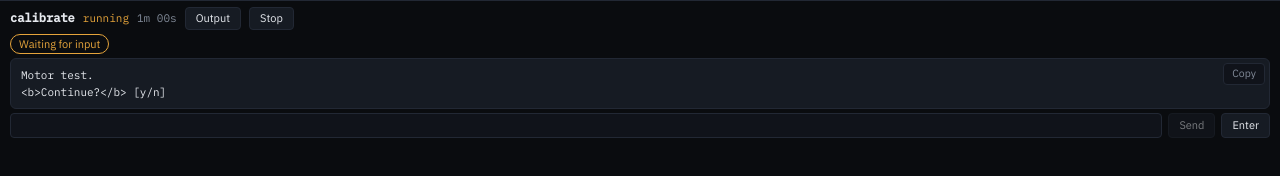
failed sends › explains a failed send ({"name":"ApiError","status":409,"code":"bridge_offline"}) and keeps the text
Type "y" into the field named "Input for" at (586, 125), box [10,113,1162,138]
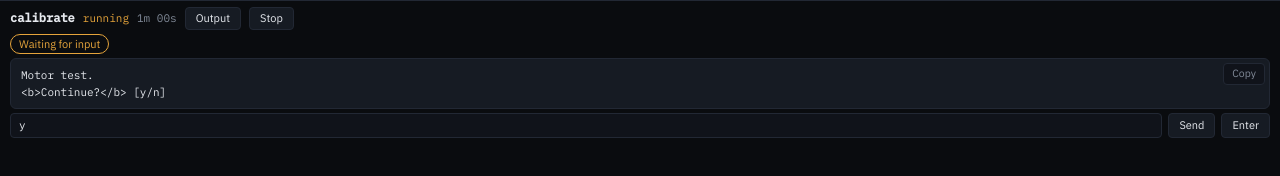
Click the button "Send" at (1192, 125), box [1168,113,1216,138]
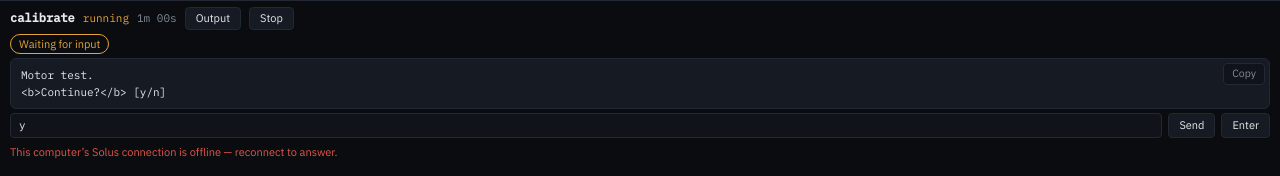
Expected: the message does not show "internal detail", [10,144,338,158]
Now the button "Send" is enabled, box [1168,113,1216,138]
Now the message shows "offline", box [10,144,338,158]
